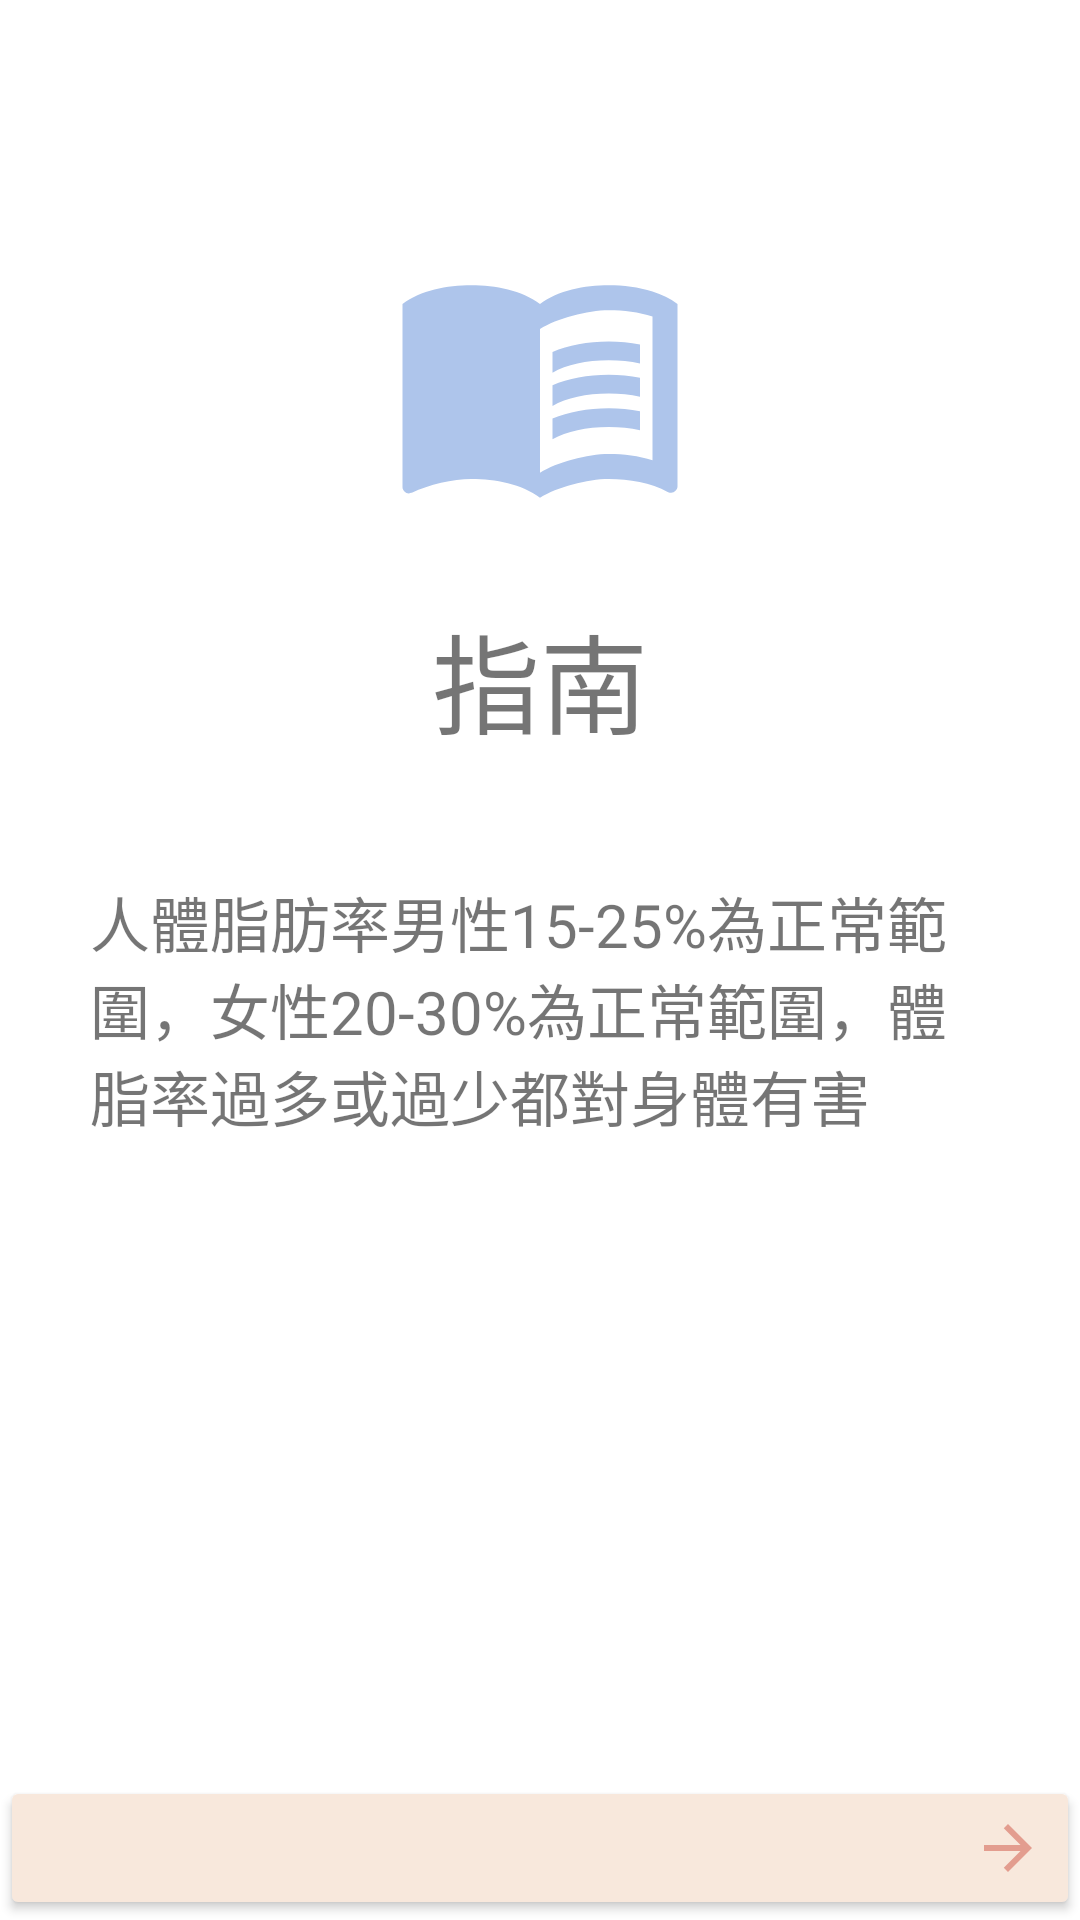

Locate icon controls on the screen. Image size 1080*1920, boxes as [x1, y1, x2, y2].
book: [402, 285, 678, 498]
